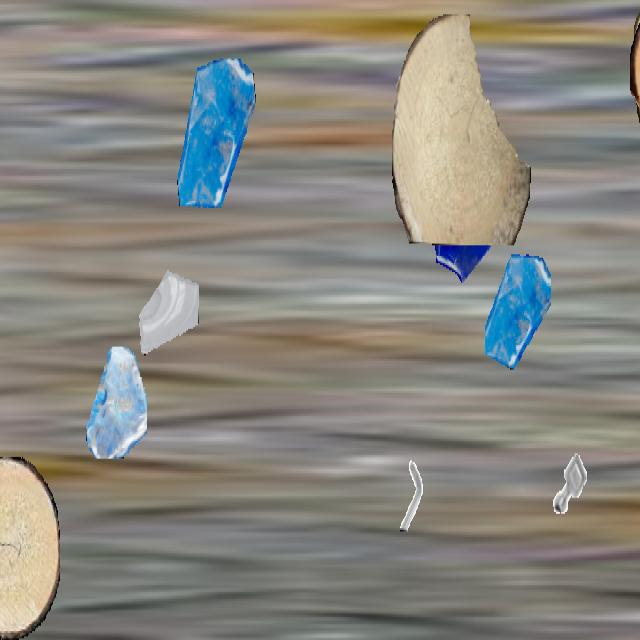glass: (174, 59, 258, 208), (424, 138, 506, 284), (485, 252, 551, 370), (84, 347, 146, 457), (138, 249, 198, 355)
metal: (545, 439, 595, 528), (390, 457, 432, 531)
plastic: (634, 2, 640, 311)
wood: (392, 14, 530, 246), (0, 457, 59, 638), (630, 1, 640, 154)
